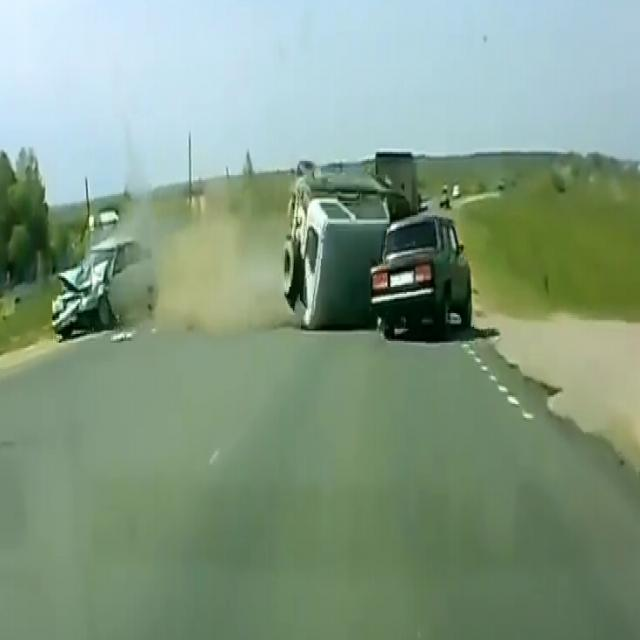accident: (266, 140, 391, 353), (50, 210, 170, 340)
